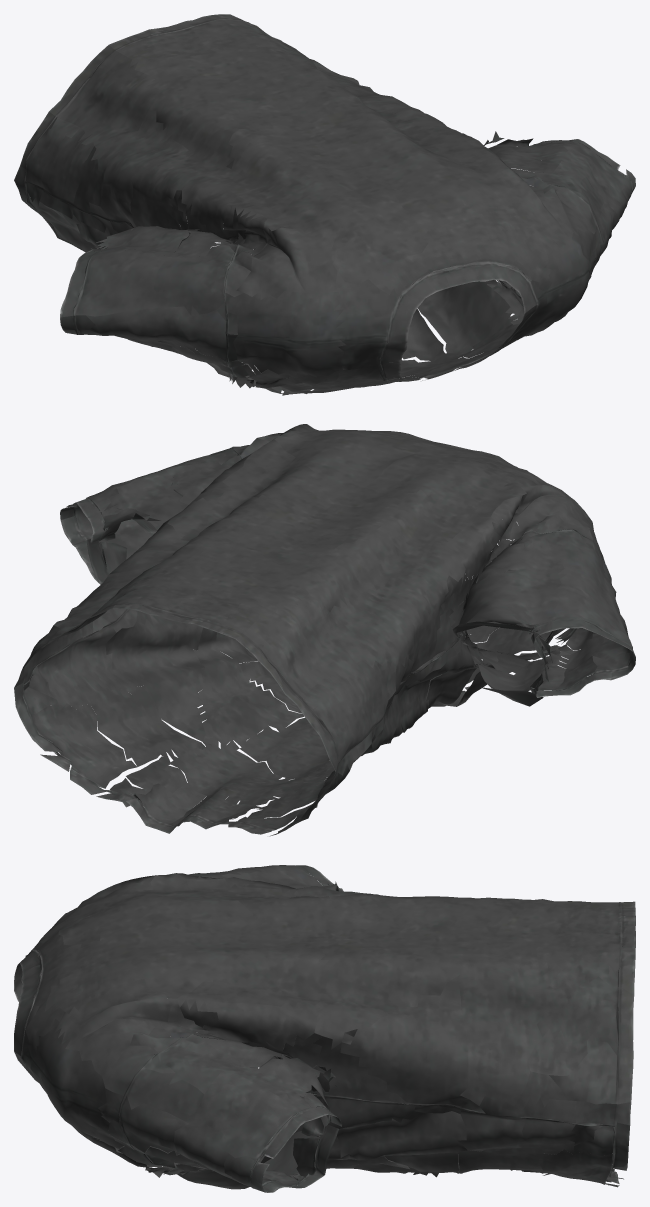
The model's file is adult-base-01.mobile.glb.
The picture shows the model from 3 angles, top to bottom: view 1: azimuth 30°, elevation 25°; view 2: azimuth 150°, elevation 25°; view 3: azimuth 270°, elevation 25°; orthographic projection. The views are drawn at different scales.
Visible parts, largest first — view 1: geometry_0; view 2: geometry_0; view 3: geometry_0.
Boxes of the visible parts, bbox=[...] form: geometry_0: bbox=[14, 14, 635, 395]; geometry_0: bbox=[14, 424, 635, 836]; geometry_0: bbox=[14, 865, 635, 1192].
Bounding box in the file's own units: 0.0083 × 0.00315 × 0.0074.
Materials: 1 (1 with a texture image).
